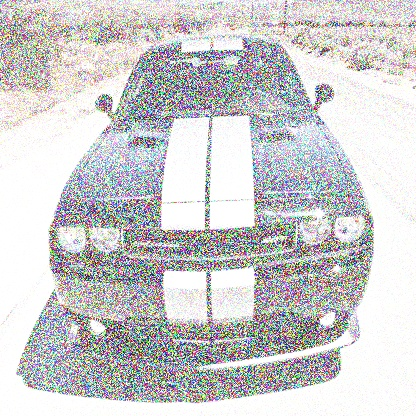Vehicle: (47, 31, 375, 373)
